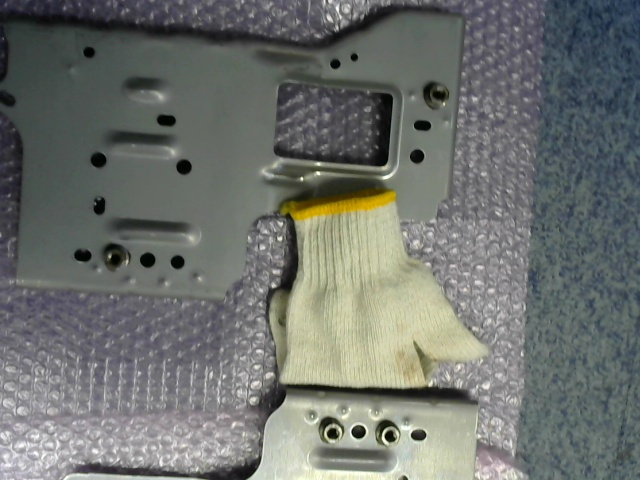dog: (423, 80, 450, 111), (318, 416, 344, 445), (375, 418, 400, 448), (103, 243, 130, 270)
